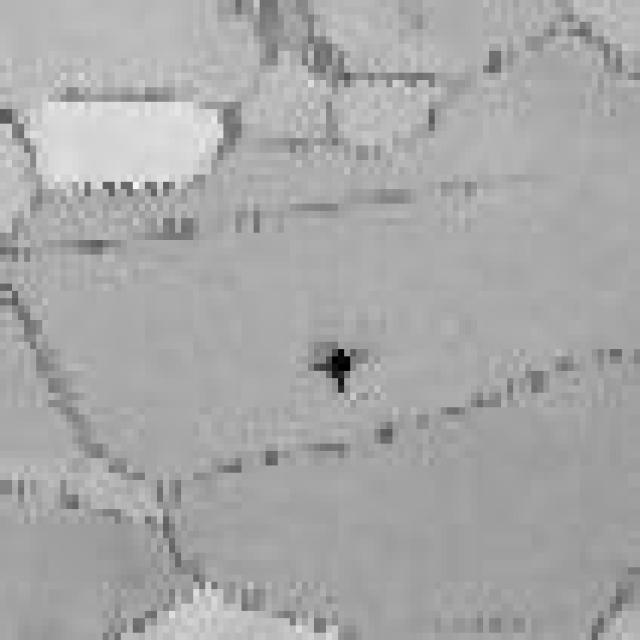good_void: (307, 339, 373, 399)
